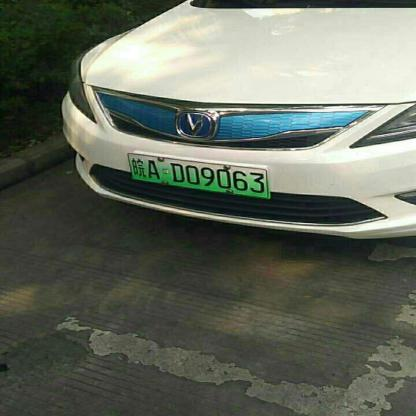lp: (128, 153, 266, 198)
